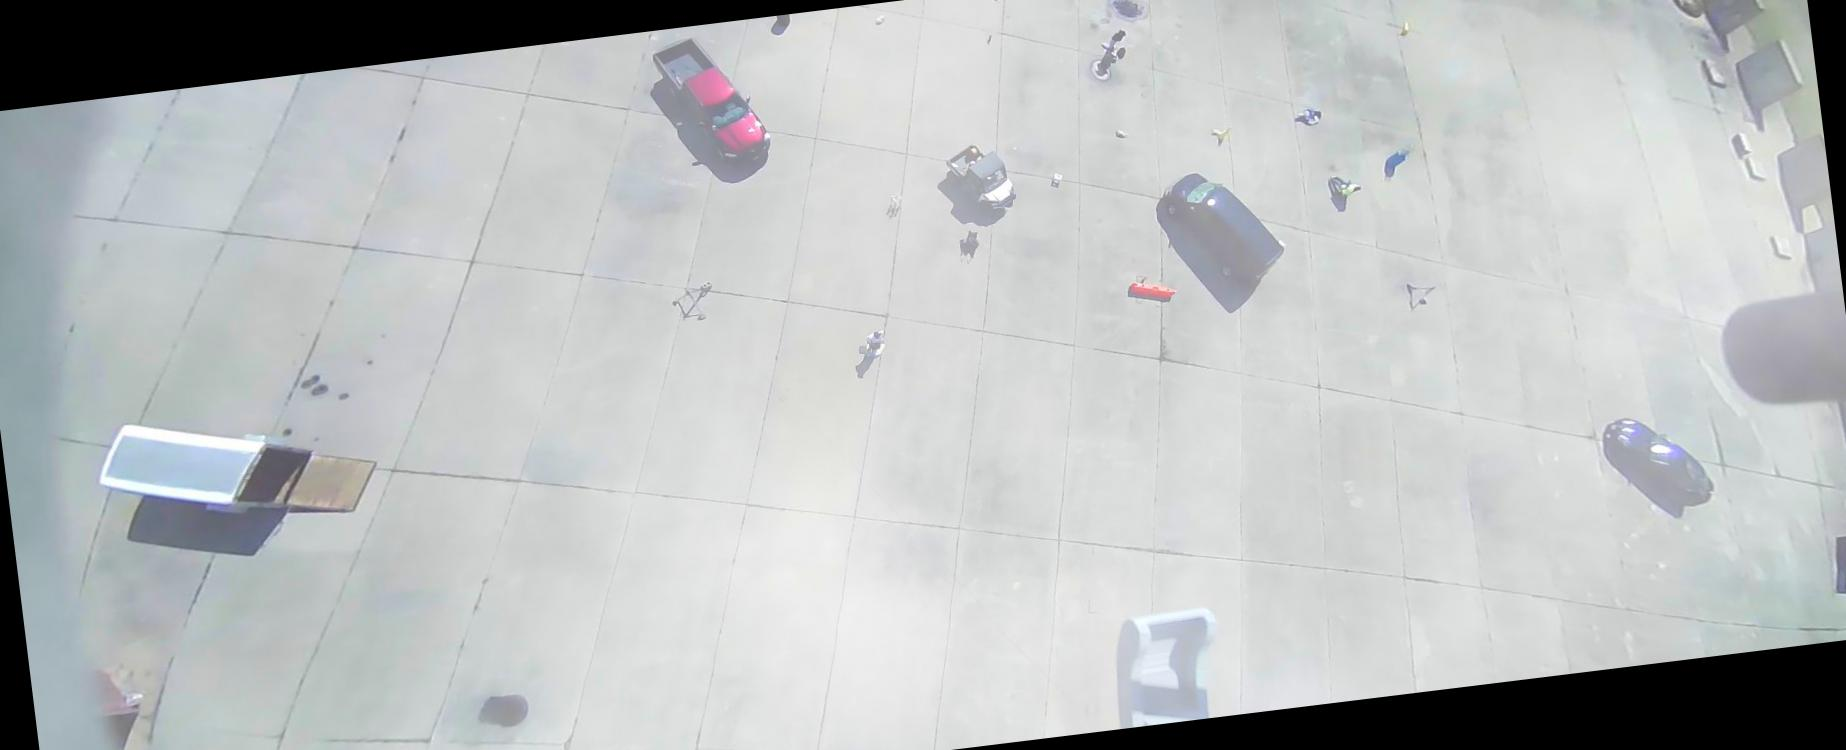vehicle: (649, 29, 771, 172), (1160, 162, 1288, 296), (1600, 409, 1715, 516), (942, 139, 1020, 223)
